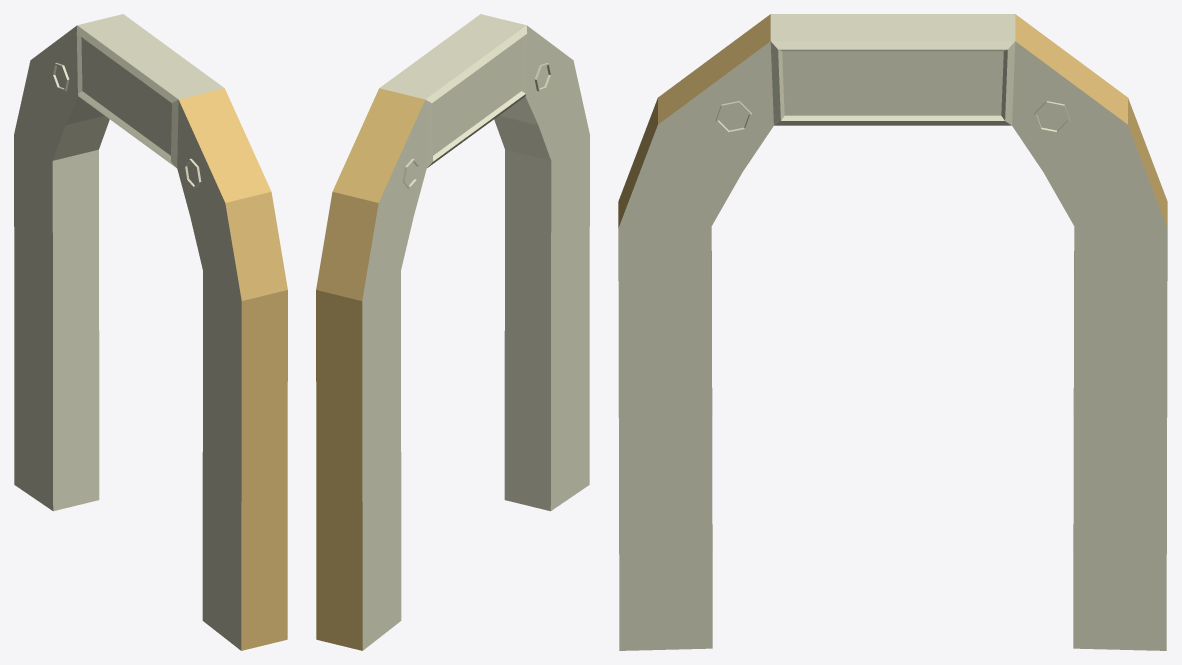
File: porte autour.fbx
3 views of the same model, side by side, from view 1: azimuth 30°, elevation 25°; view 2: azimuth 150°, elevation 25°; view 3: azimuth 270°, elevation 25° (orthographic). The views are drawn at different scales.
Parts seen in each view (by area): view 1: scaner carte; view 2: scaner carte; view 3: scaner carte.
Part boxes in pixels (x1,y1,x2,y2): scaner carte: (14,14,287,650); scaner carte: (316,14,589,650); scaner carte: (618,14,1167,650).
Size of the model in its own units: 39.84 by 362 by 295.
